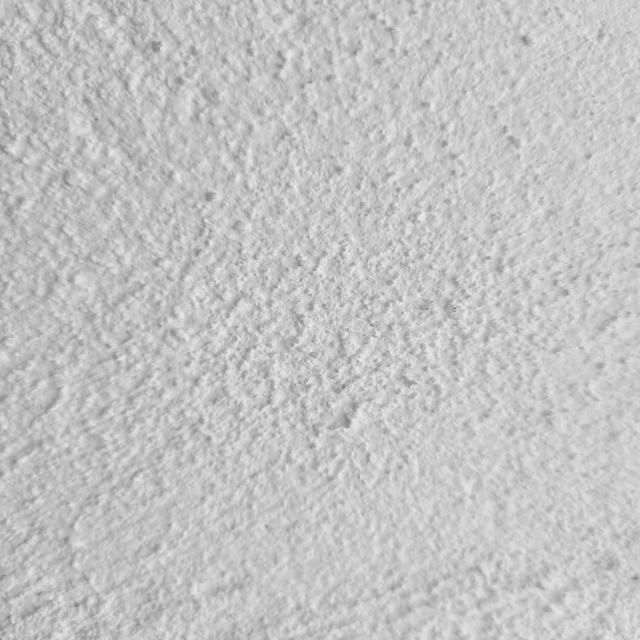rough and patchy surface: (5, 5, 639, 639)
